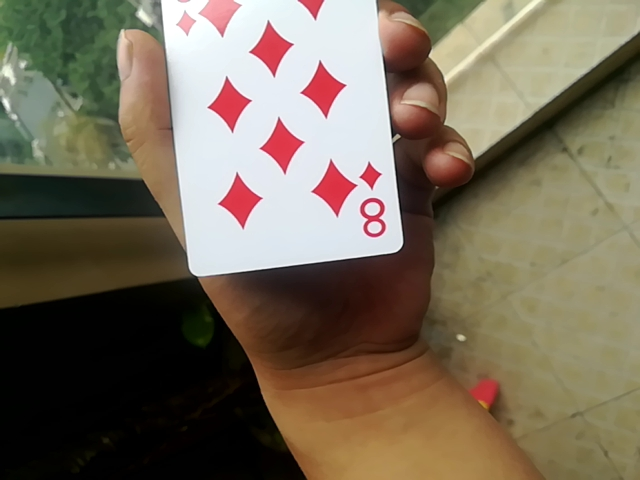fk 8: (157, 0, 400, 279)
